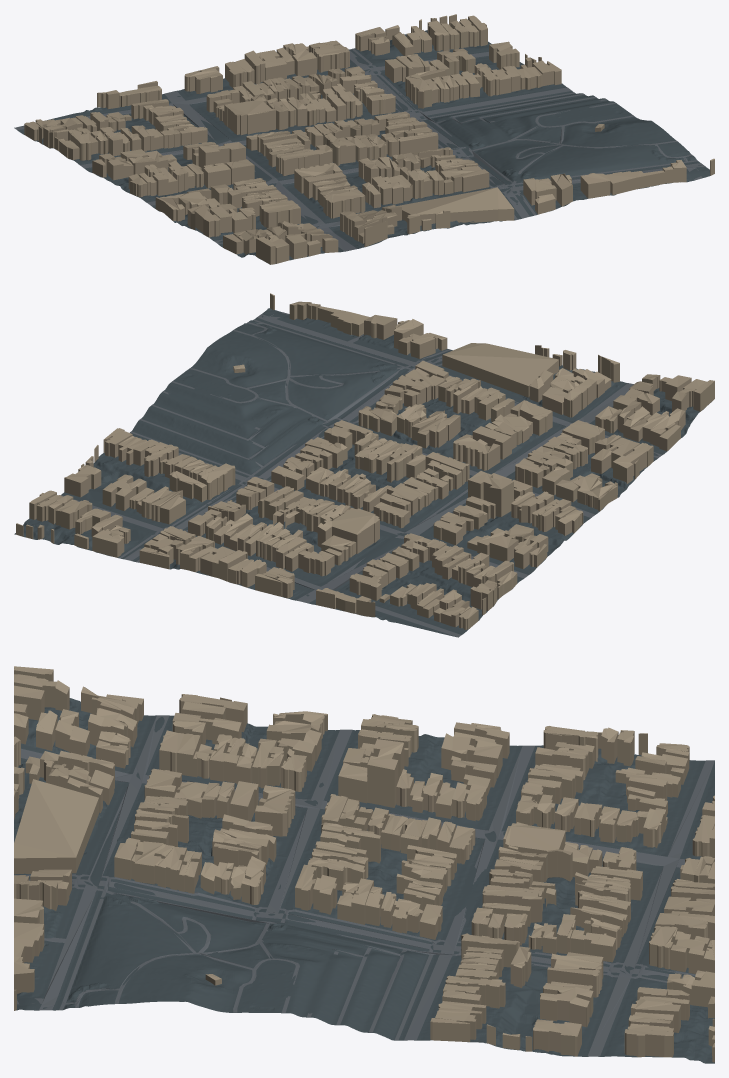
Rendered from epsg26910-1430-10892.lod0.glb.
3 views of the same model, one above another, from view 1: azimuth 30°, elevation 25°; view 2: azimuth 150°, elevation 25°; view 3: azimuth 270°, elevation 25° (orthographic). The views are drawn at different scales.
Parts seen in each view (by area): view 1: epsg26910-1430-10892-lod0; view 2: epsg26910-1430-10892-lod0; view 3: epsg26910-1430-10892-lod0.
Boxes of the visible parts, x1,y1,x2,y2 form: epsg26910-1430-10892-lod0: (14, 14, 714, 264); epsg26910-1430-10892-lod0: (14, 293, 714, 637); epsg26910-1430-10892-lod0: (14, 666, 714, 1063).
Bounding box in the file's own units: 384 × 61.52 × 384.
